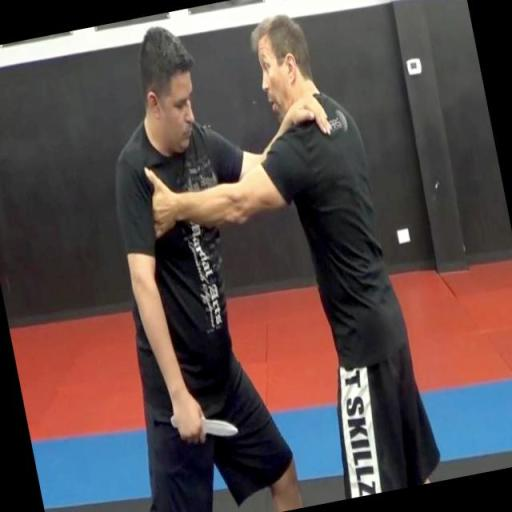knife: (167, 399, 241, 450)
